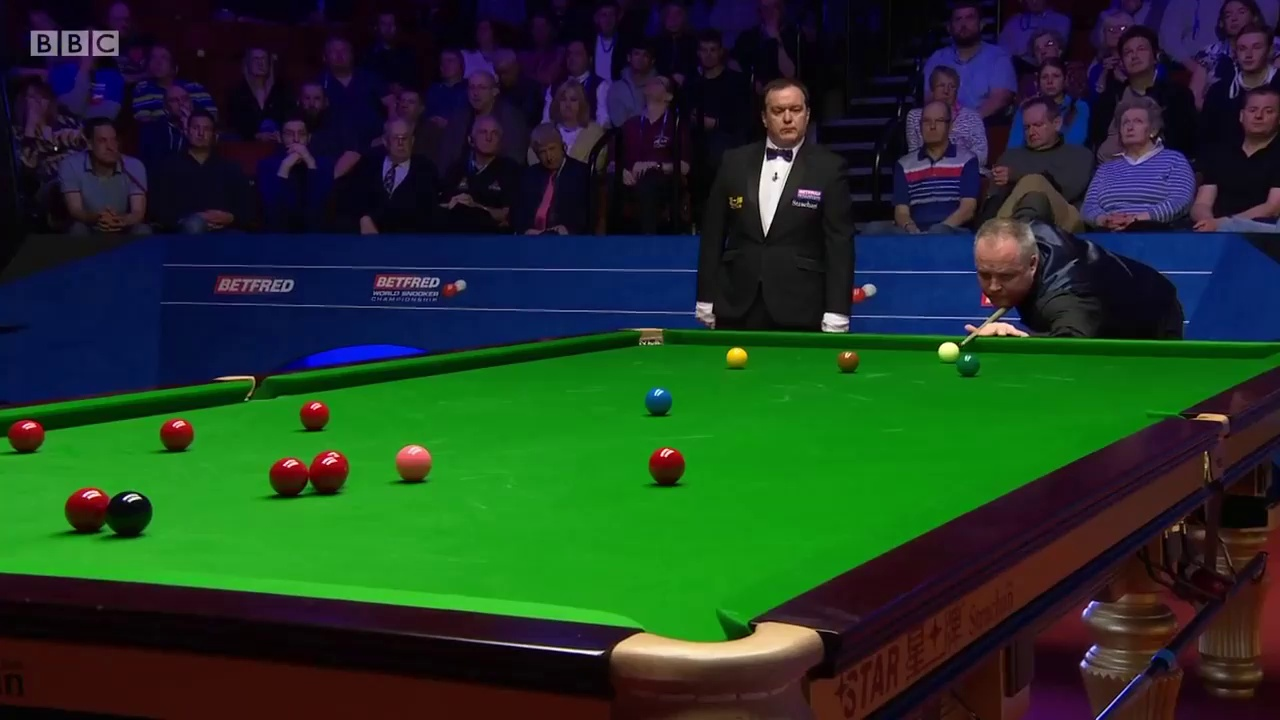baseball glove: (298, 399, 332, 426), (729, 348, 750, 364)
black: (106, 495, 153, 534)
blue: (647, 387, 672, 414)
brown: (836, 351, 859, 372)
green: (958, 353, 977, 375)
pink: (397, 447, 431, 479)
red: (62, 491, 104, 534), (311, 456, 345, 496), (272, 460, 307, 495), (4, 422, 43, 451), (652, 451, 683, 486), (161, 419, 193, 450)
white: (937, 341, 958, 362)
